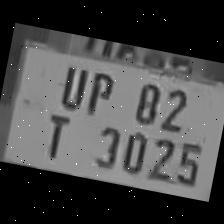0: (117, 124, 150, 174)
2: (141, 128, 180, 183), (156, 80, 192, 132)
3: (86, 117, 124, 171)
5: (170, 132, 206, 186)
8: (127, 72, 165, 126)
P: (80, 62, 118, 118)
T: (35, 106, 77, 161)
U: (54, 56, 92, 110)
